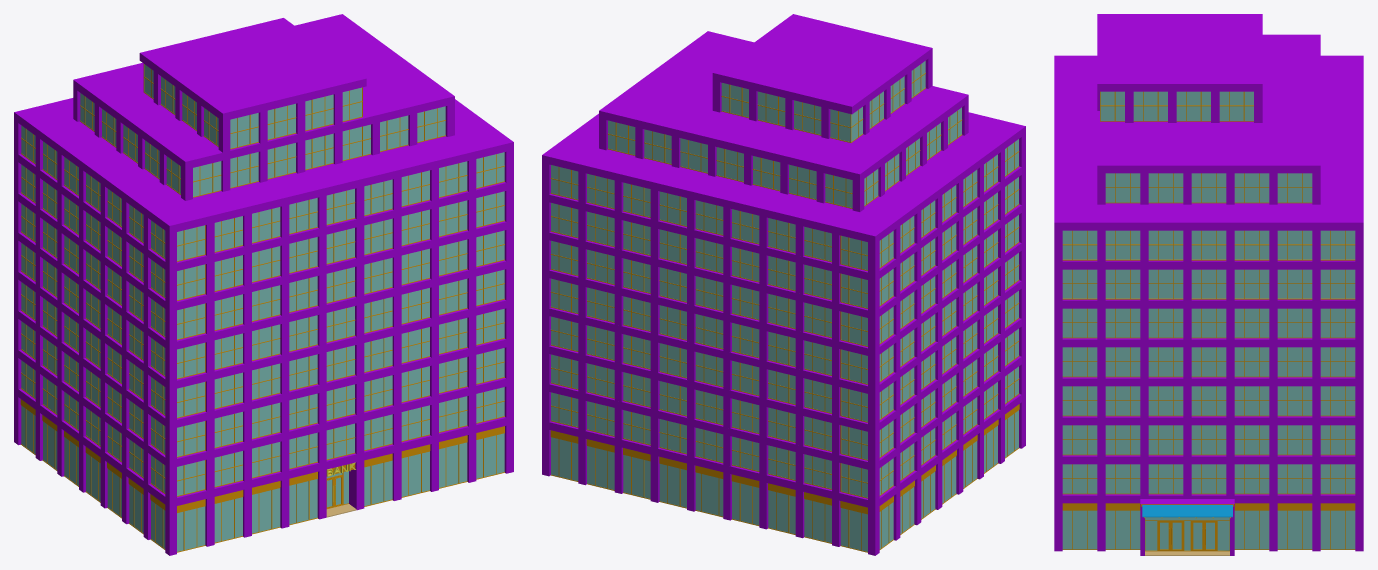
The model's file is Building_8.FBX.
3 renders of one model, left to right at view 1: azimuth 30°, elevation 25°; view 2: azimuth 150°, elevation 25°; view 3: azimuth 270°, elevation 25°, orthographic. The views are drawn at different scales.
Parts seen in each view (by area): view 1: B-8; view 2: B-8; view 3: B-8.
Boxes of the visible parts, <box> form: B-8: <box>14,14,513,555</box>; B-8: <box>542,14,1025,555</box>; B-8: <box>1054,14,1363,555</box>.
Size of the model in its own units: 3597 by 3650 by 2520.
